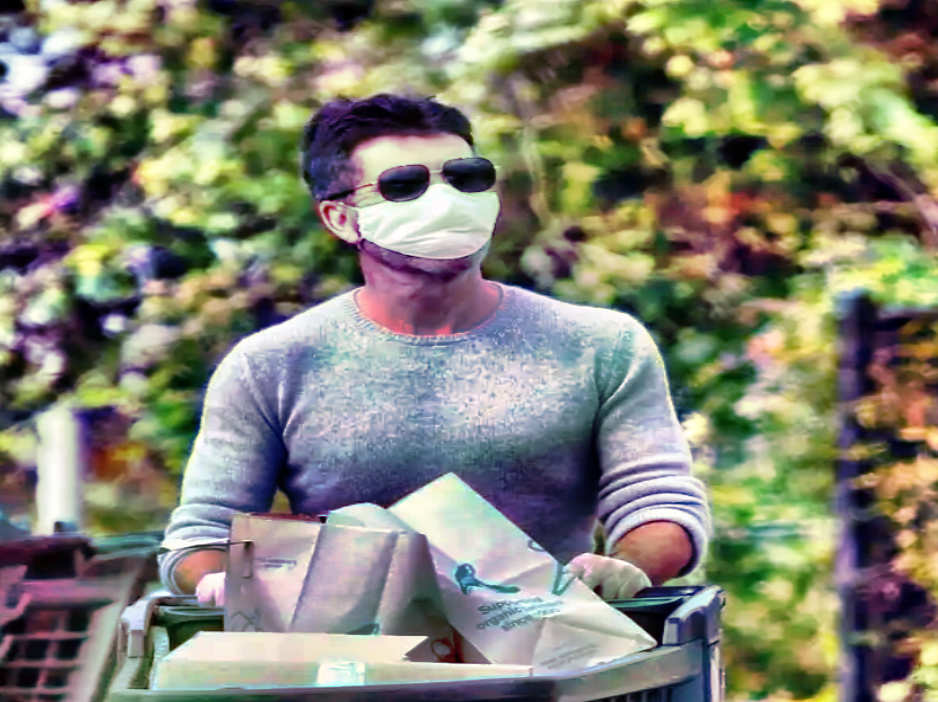mask_weared_incorrect: (299, 98, 508, 280)
